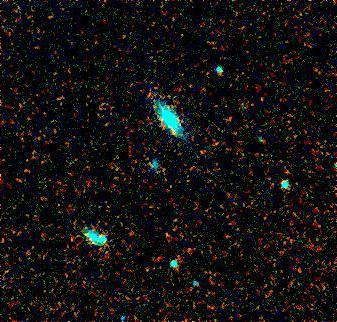star: (158, 116, 188, 146)
